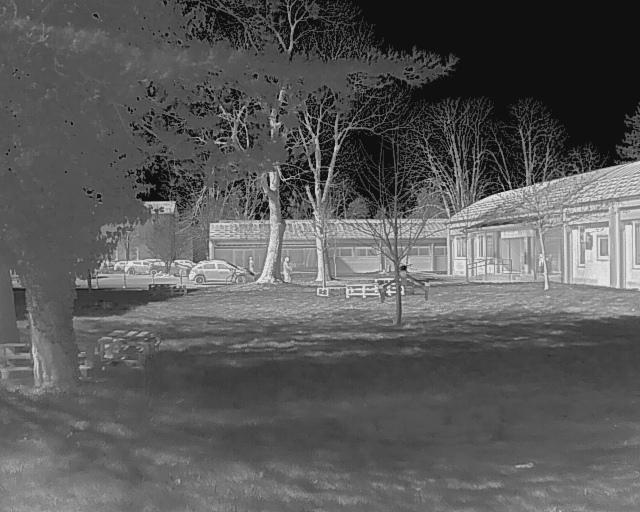drone: (359, 254, 443, 306)
